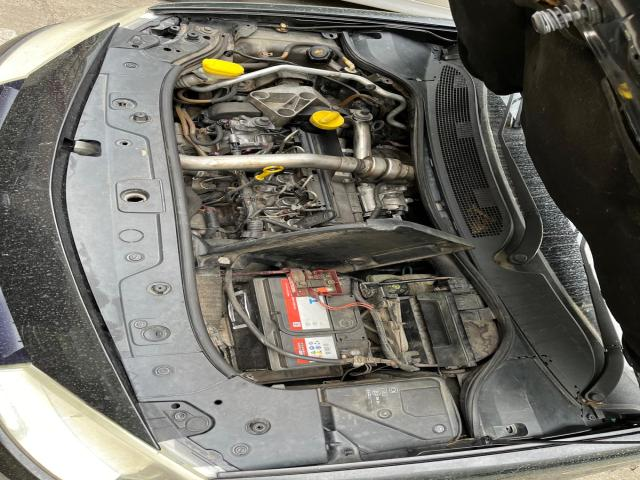accumulator: (238, 270, 370, 359), (228, 307, 332, 371)
alternator: (173, 123, 193, 154)
antifreeze_tank: (235, 27, 340, 68), (233, 55, 258, 63)
fuse_box: (318, 371, 462, 454)
high_pressure_pump: (210, 118, 275, 156)
